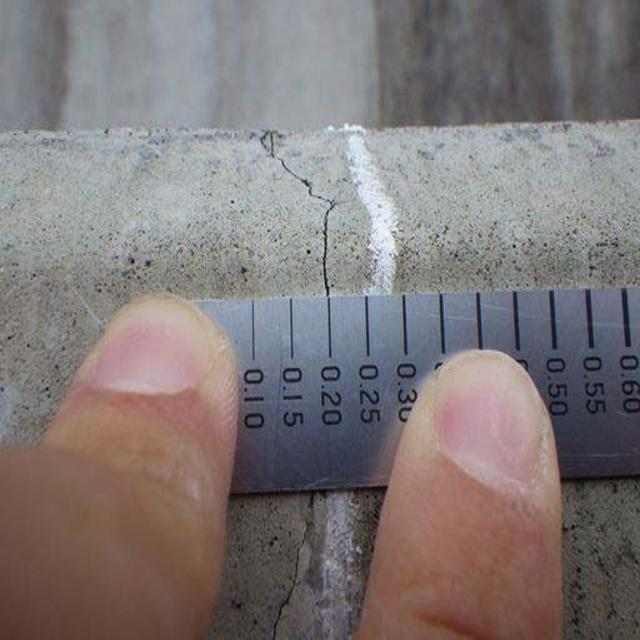crack: (257, 127, 349, 290), (251, 500, 326, 640)
